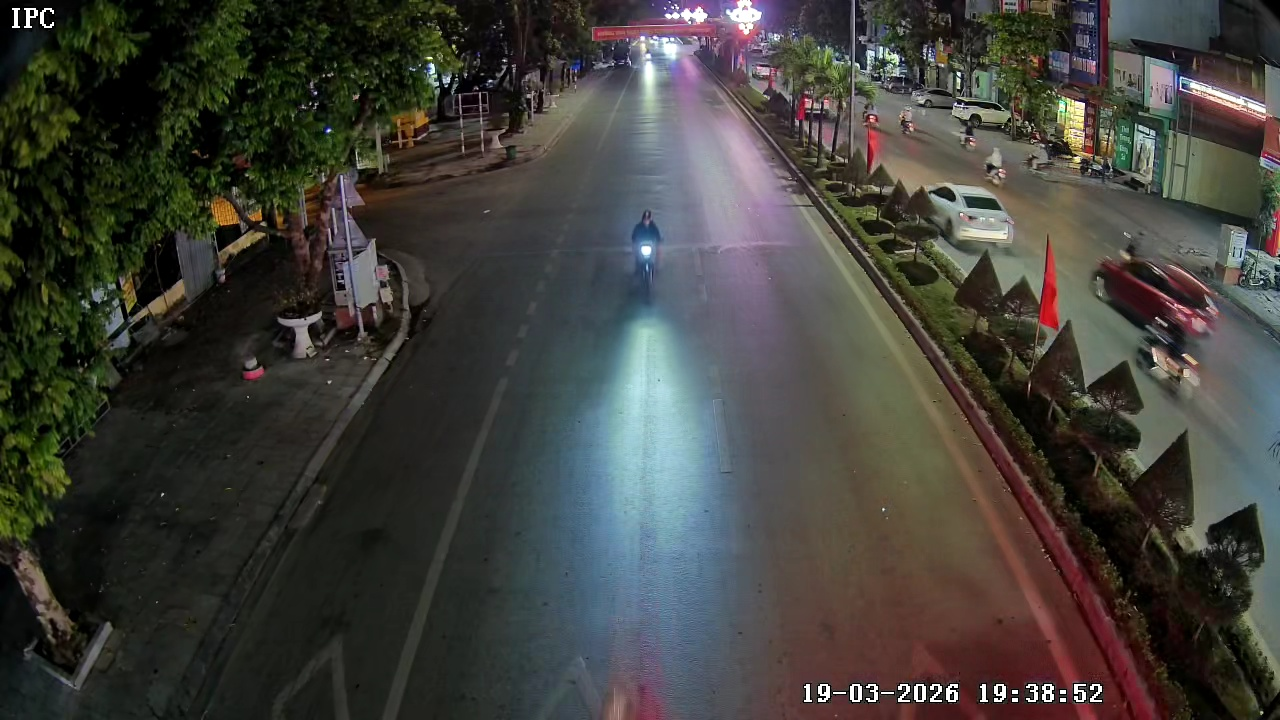car: (915, 182, 1016, 248)
motorbike: (627, 208, 665, 300)
